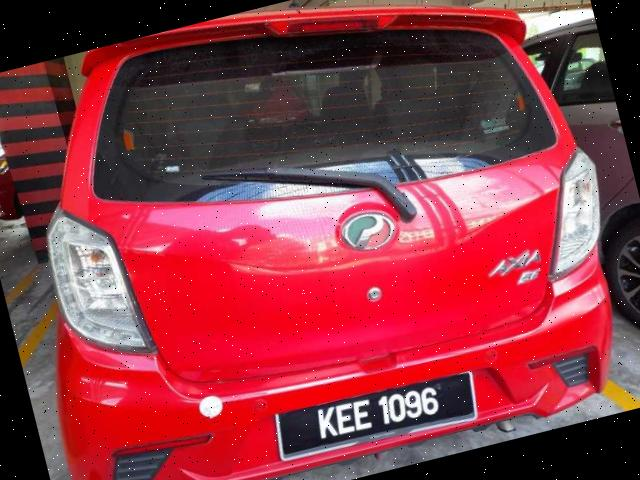License_Plate: (269, 366, 483, 468)
car: (1, 1, 640, 480)
